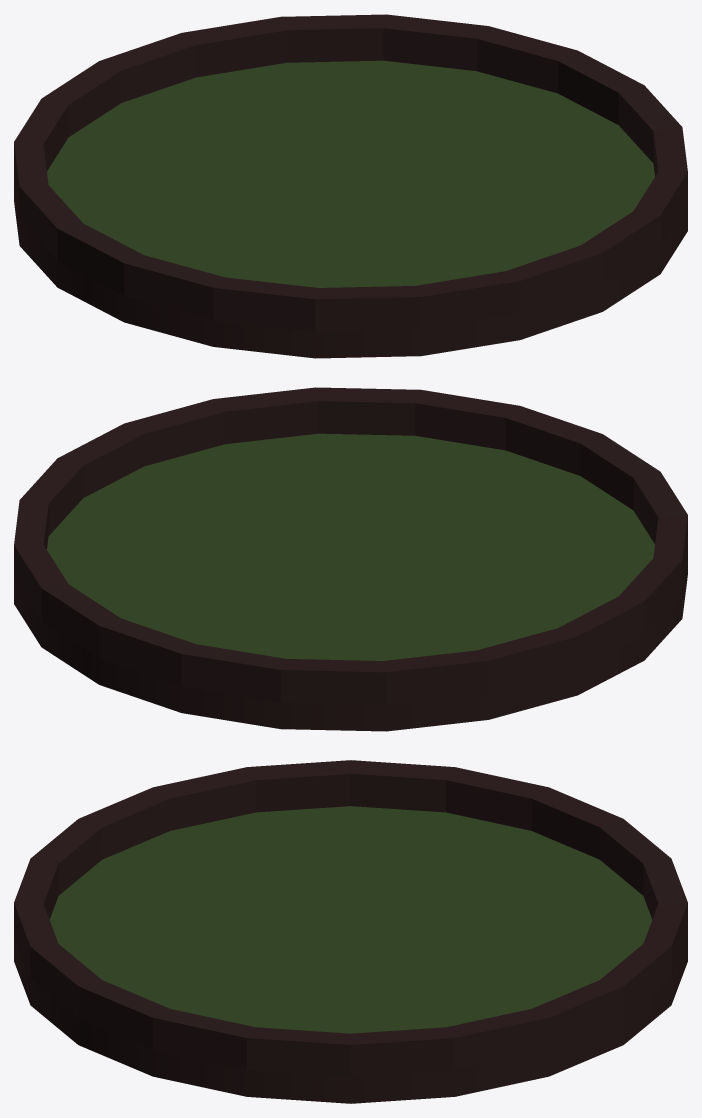
File: escenario2vF.fbx
The picture shows the model from 3 angles, top to bottom: view 1: azimuth 30°, elevation 25°; view 2: azimuth 150°, elevation 25°; view 3: azimuth 270°, elevation 25°; orthographic projection.
Visible parts, largest first — view 1: pCylinder4; view 2: pCylinder4; view 3: pCylinder4.
Part boxes in pixels (x1,y1,x2,y2): pCylinder4: [14, 14, 687, 358]; pCylinder4: [14, 387, 687, 731]; pCylinder4: [14, 760, 687, 1103].
Bounding box in the file's own units: 62.13 × 5.99 × 62.13.
